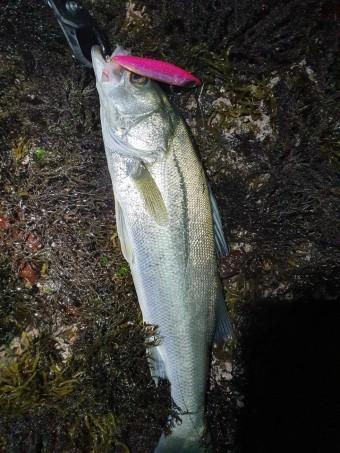fish: (91, 45, 231, 452)
